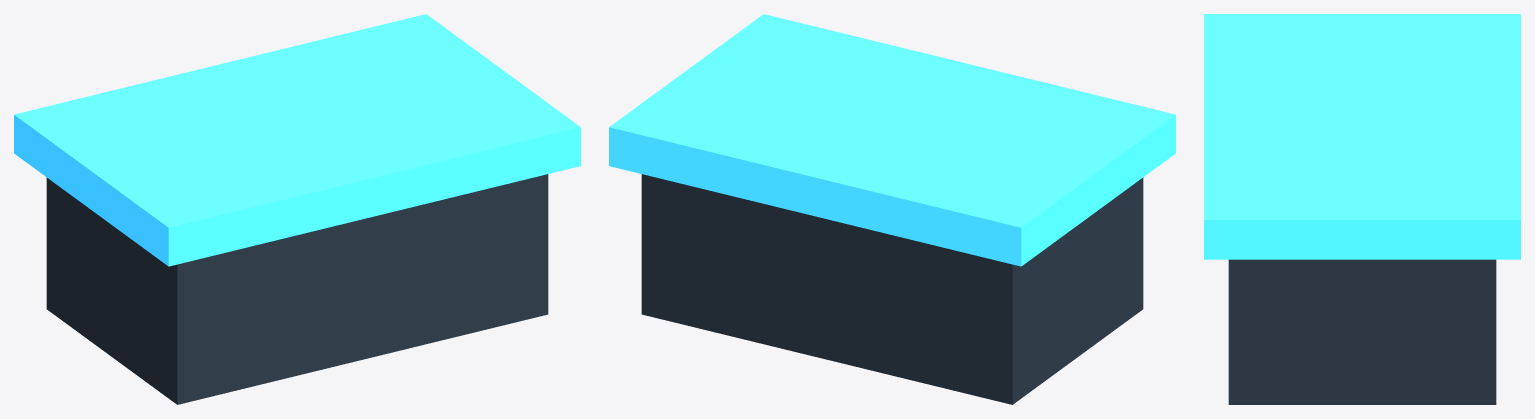
The model's file is frozen_altar.glb.
3 renders of one model, left to right at view 1: azimuth 30°, elevation 25°; view 2: azimuth 150°, elevation 25°; view 3: azimuth 270°, elevation 25°, orthographic. The views are drawn at different scales.
Bounding box in the file's own units: 2 × 0.885 × 1.3.
